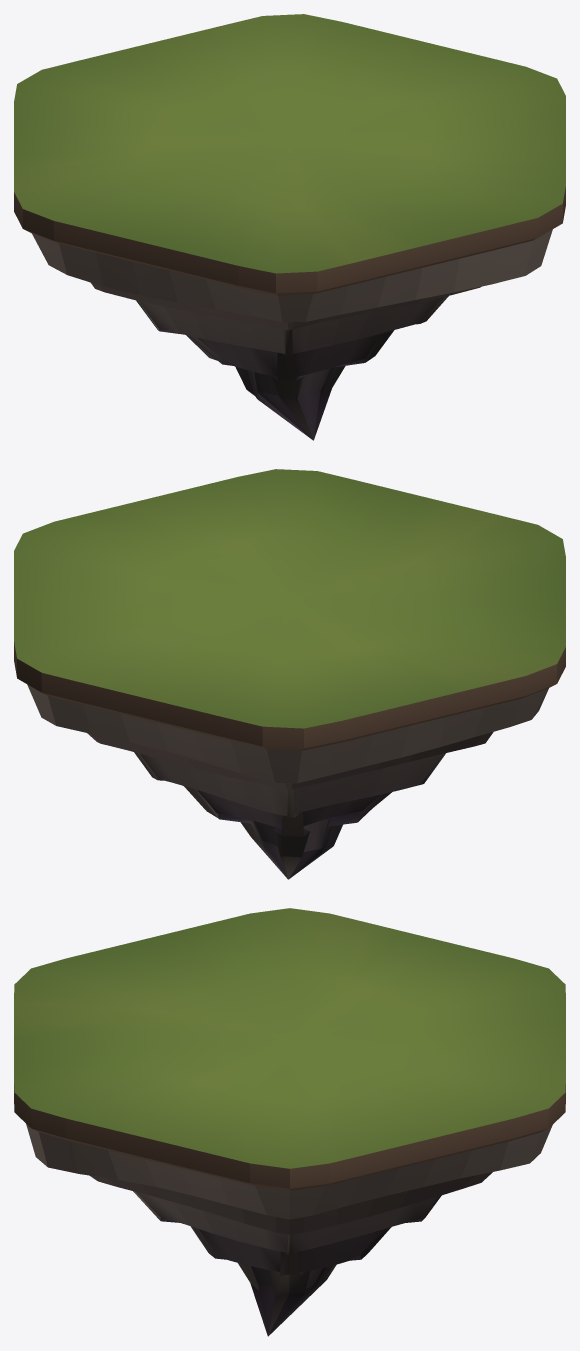
Rendered from socle_hex_2.glb.
The picture shows the model from 3 angles, top to bottom: view 1: azimuth 30°, elevation 25°; view 2: azimuth 150°, elevation 25°; view 3: azimuth 270°, elevation 25°; orthographic projection.
Visible parts, largest first — view 1: socle_hex_2; view 2: socle_hex_2; view 3: socle_hex_2.
Boxes of the visible parts, x1,y1,x2,y2 form: socle_hex_2: (14,14,565,440); socle_hex_2: (14,469,565,879); socle_hex_2: (14,908,565,1336).
Size of the model in its own units: 8.42 by 4.4 by 7.53.
